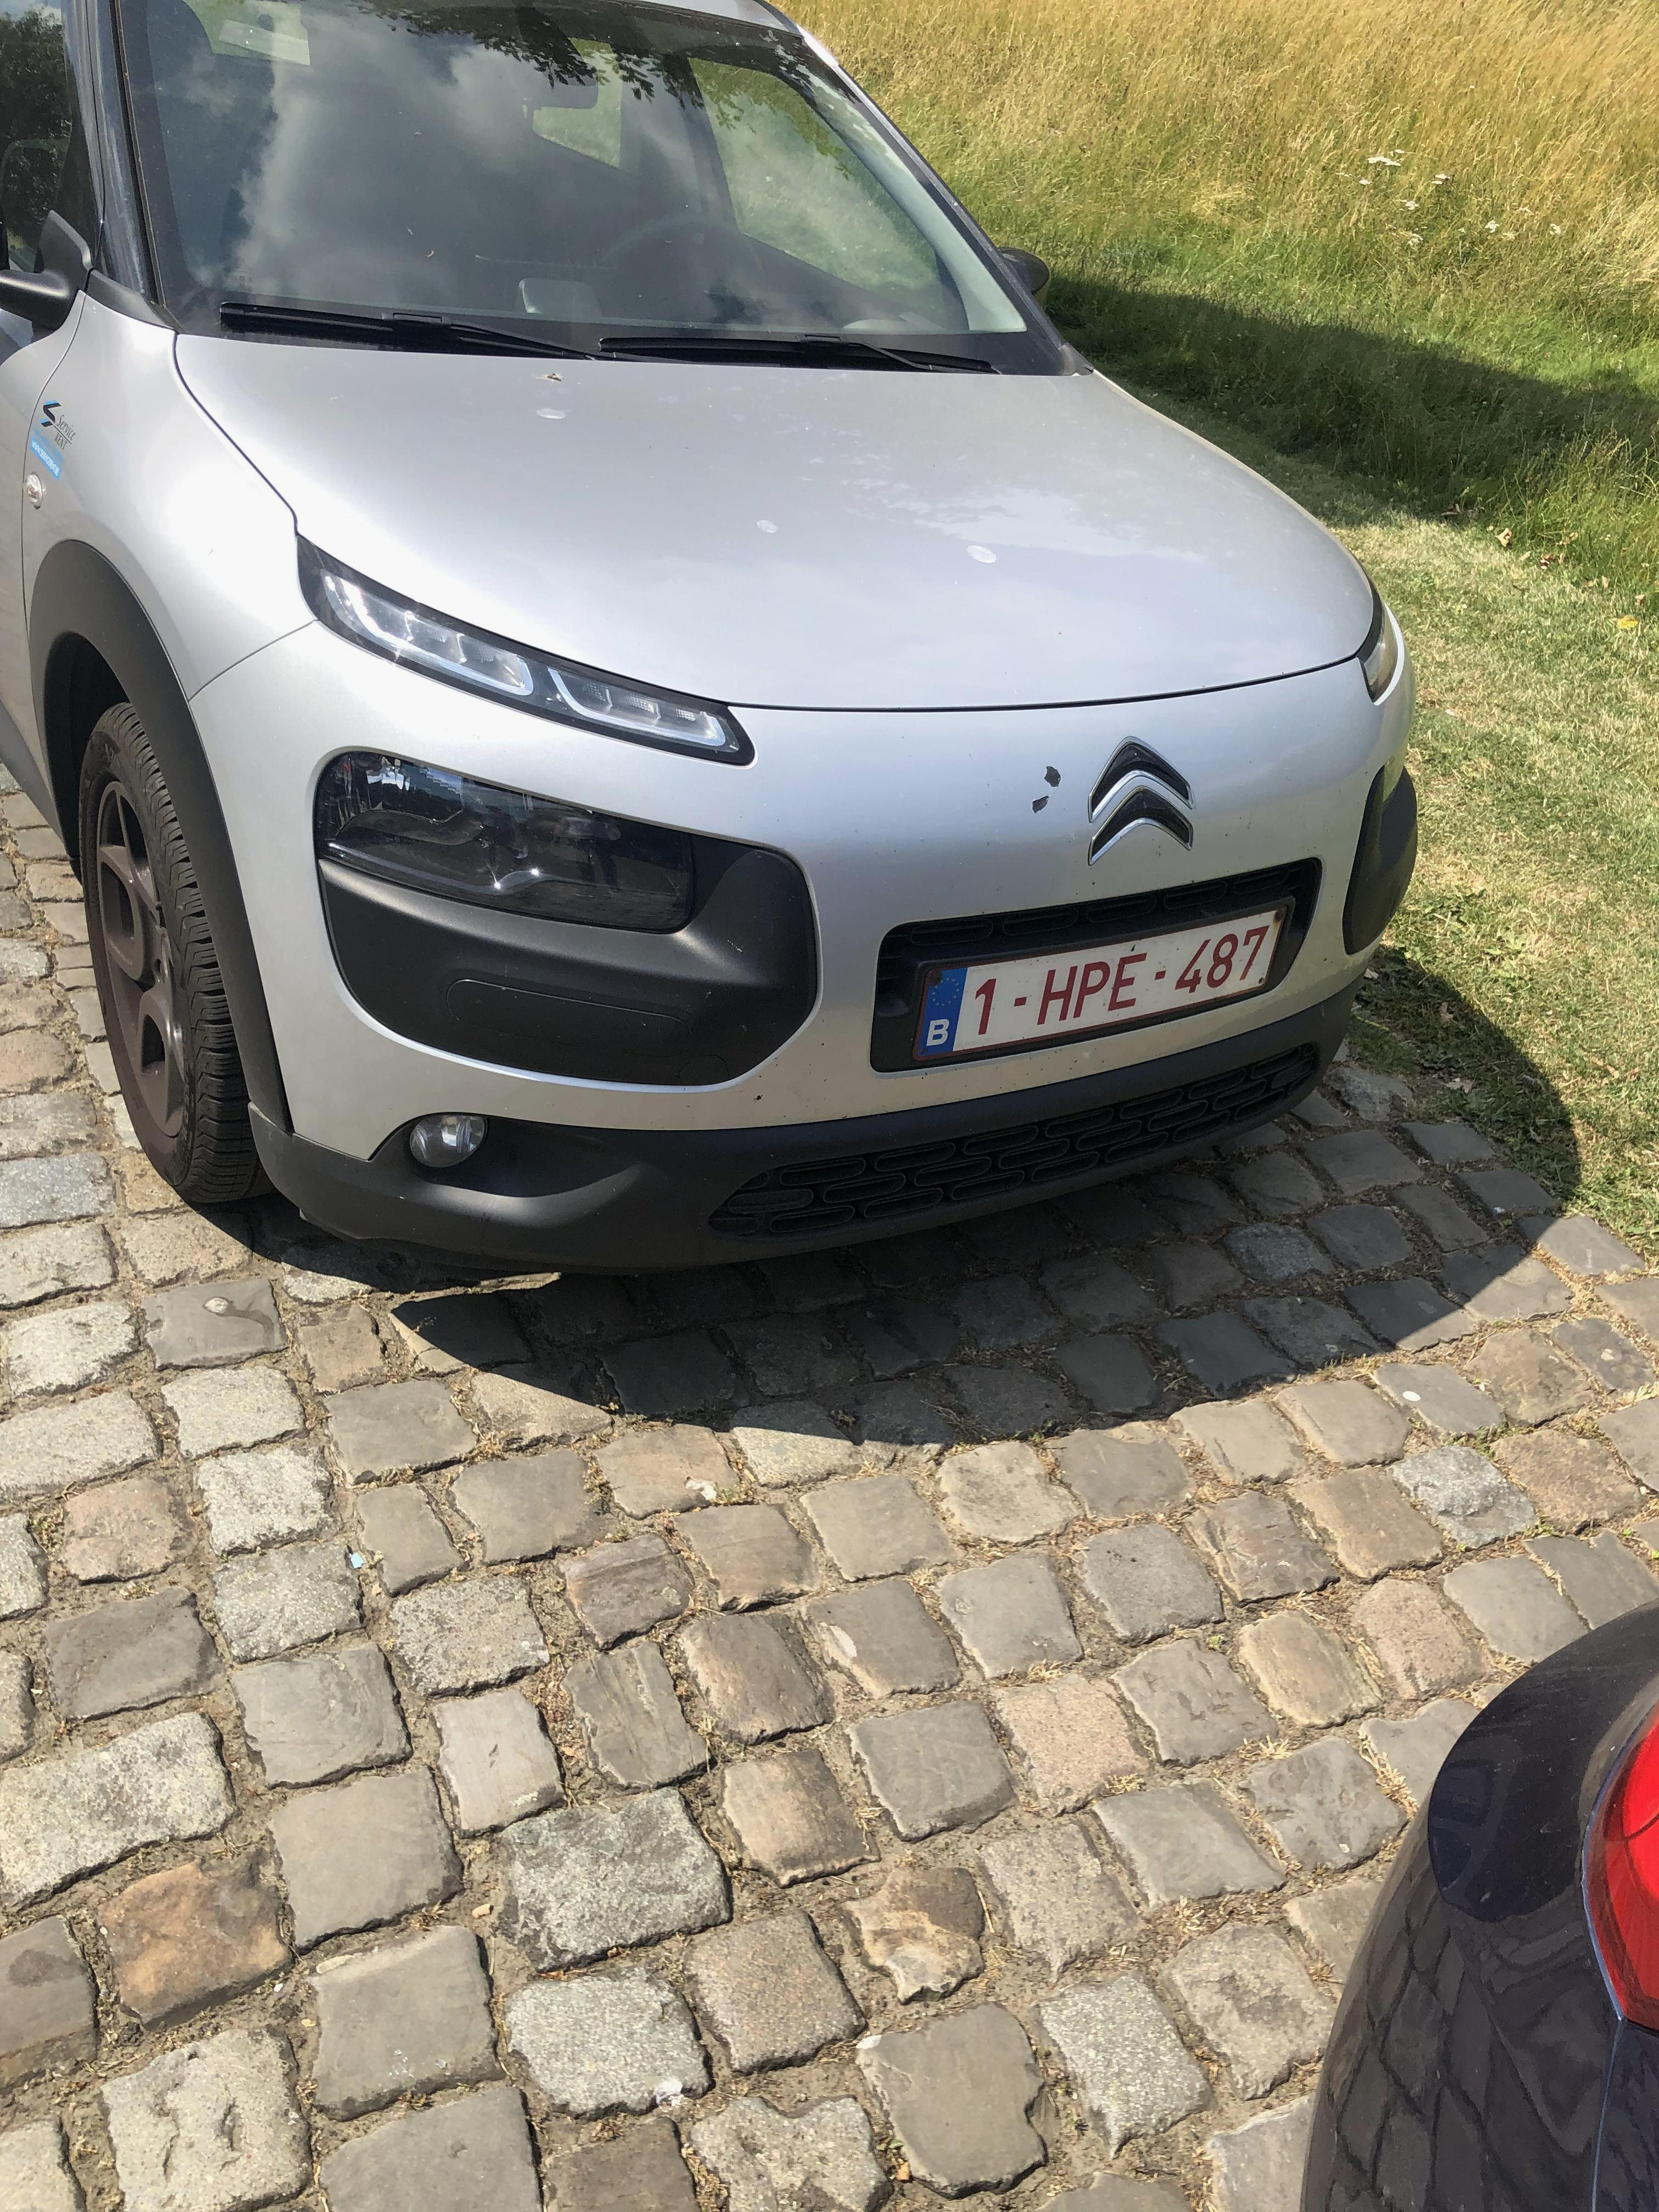plate: (900, 894, 1298, 1073)
